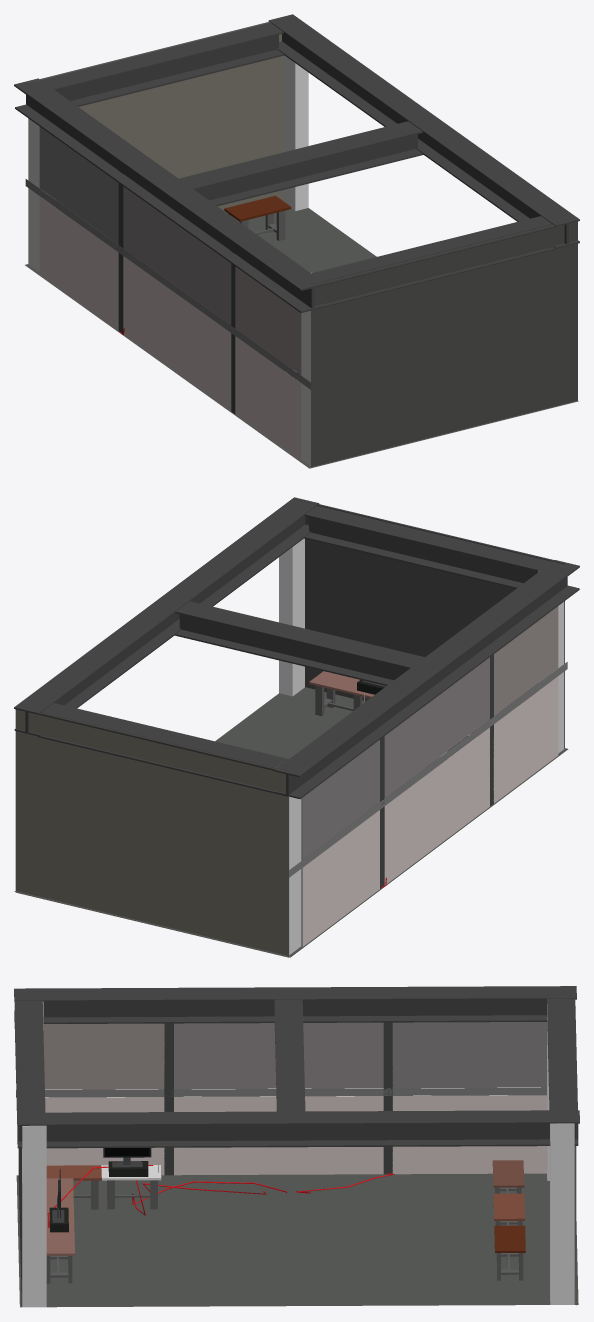
File: LabWPC.gltf
The picture shows the model from 3 angles, top to bottom: view 1: azimuth 30°, elevation 25°; view 2: azimuth 150°, elevation 25°; view 3: azimuth 270°, elevation 25°; orthographic projection.
Parts seen in each view (by area): view 1: Vigas_Amarre, ParedFondo, ParedDerecha, ParedIzquierda.005, ParedIzquierda.008, ParedIzquierda.006, ParedIzquierda.001, Piso, ParedIzquierda.007, ParedIzquierda.009, Columna4, ParedIzquierda.002 (+5 smaller); view 2: ParedDerecha, Vigas_Amarre, ParedFondo, ParedIzquierda.005, ParedIzquierda.008, Piso, ParedIzquierda.006, ParedIzquierda.001, ParedIzquierda.007, ParedIzquierda.009, Columna1, ParedIzquierda.002 (+5 smaller); view 3: Piso, Vigas_Amarre, ParedIzquierda.008, ParedIzquierda.007, ParedIzquierda.005, ParedIzquierda.009, ParedIzquierda.006, Columna1, Columna4, ParedIzquierda.002, ParedIzquierda.001, Mesa.Lab3 (+12 smaller).
Part boxes in pixels (x1,y1,x2,y2): Vigas_Amarre: [14, 14, 579, 312]; ParedFondo: [311, 217, 577, 467]; ParedDerecha: [28, 22, 282, 264]; ParedIzquierda.005: [123, 256, 231, 410]; ParedIzquierda.008: [123, 186, 231, 324]; ParedIzquierda.006: [39, 196, 118, 330]; ParedIzquierda.001: [235, 336, 301, 461]; Piso: [25, 208, 578, 468]; ParedIzquierda.007: [39, 127, 118, 244]; ParedIzquierda.009: [235, 266, 301, 374]; Columna4: [283, 55, 308, 210]; ParedIzquierda.002: [25, 179, 310, 389]; ParedDerecha: [15, 709, 288, 957]; Vigas_Amarre: [14, 497, 579, 799]; ParedFondo: [293, 499, 564, 748]; ParedIzquierda.005: [384, 727, 489, 884]; ParedIzquierda.008: [384, 657, 489, 797]; Piso: [14, 687, 568, 957]; ParedIzquierda.006: [302, 810, 379, 946]; ParedIzquierda.001: [493, 676, 558, 803]; ParedIzquierda.007: [302, 740, 379, 859]; ParedIzquierda.009: [494, 606, 558, 716]; Columna1: [279, 538, 304, 696]; ParedIzquierda.002: [289, 662, 567, 877]; Piso: [16, 1173, 578, 1307]; Vigas_Amarre: [14, 986, 579, 1148]; ParedIzquierda.008: [174, 1022, 383, 1089]; ParedIzquierda.007: [392, 1022, 546, 1088]; ParedIzquierda.005: [174, 1096, 383, 1175]; ParedIzquierda.009: [43, 1023, 164, 1089]; ParedIzquierda.006: [392, 1095, 546, 1174]; Columna1: [22, 1125, 46, 1307]; Columna4: [550, 1123, 574, 1304]; ParedIzquierda.002: [16, 1087, 546, 1097]; ParedIzquierda.001: [45, 1097, 164, 1175]; Mesa.Lab3: [494, 1225, 525, 1280].
Bounding box in the file's own units: 10.57 × 6.51 × 18.15.
